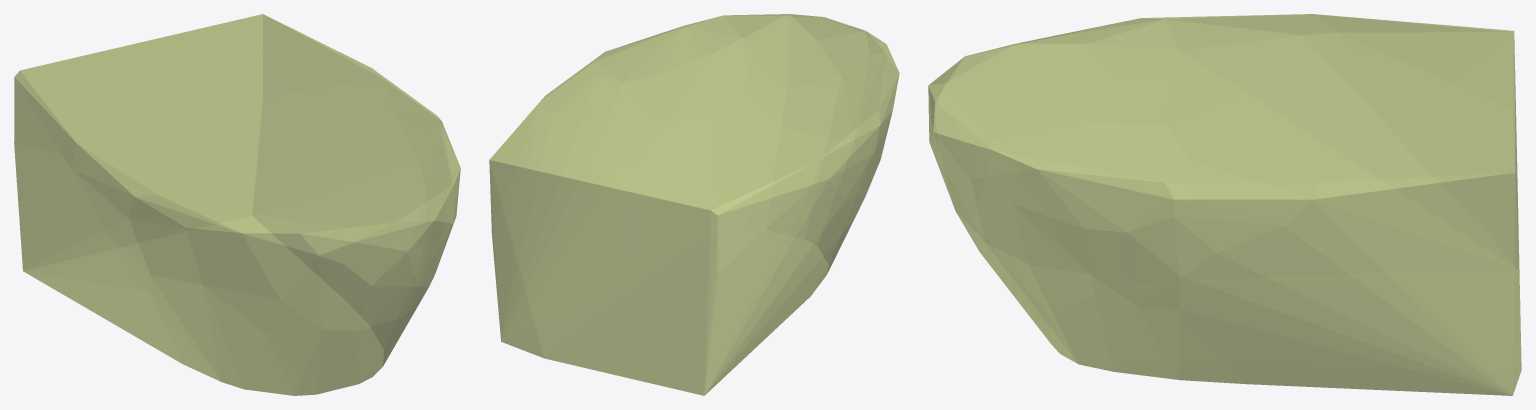
3 renders of one model, left to right at view 1: azimuth 30°, elevation 25°; view 2: azimuth 150°, elevation 25°; view 3: azimuth 270°, elevation 25°, orthographic. The views are drawn at different scales.
Parts seen in each view (by area): view 1: Shape_IndexedFaceSet.002_Shape_IndexedFaceSet.8647; view 2: Shape_IndexedFaceSet.002_Shape_IndexedFaceSet.8647; view 3: Shape_IndexedFaceSet.002_Shape_IndexedFaceSet.8647.
Part boxes in pixels (x1,y1,x2,y2): Shape_IndexedFaceSet.002_Shape_IndexedFaceSet.8647: (14,14,460,395); Shape_IndexedFaceSet.002_Shape_IndexedFaceSet.8647: (489,14,899,395); Shape_IndexedFaceSet.002_Shape_IndexedFaceSet.8647: (928,14,1521,395).
Bounding box in the file's own units: 0.6969 × 0.4334 × 0.9817.
